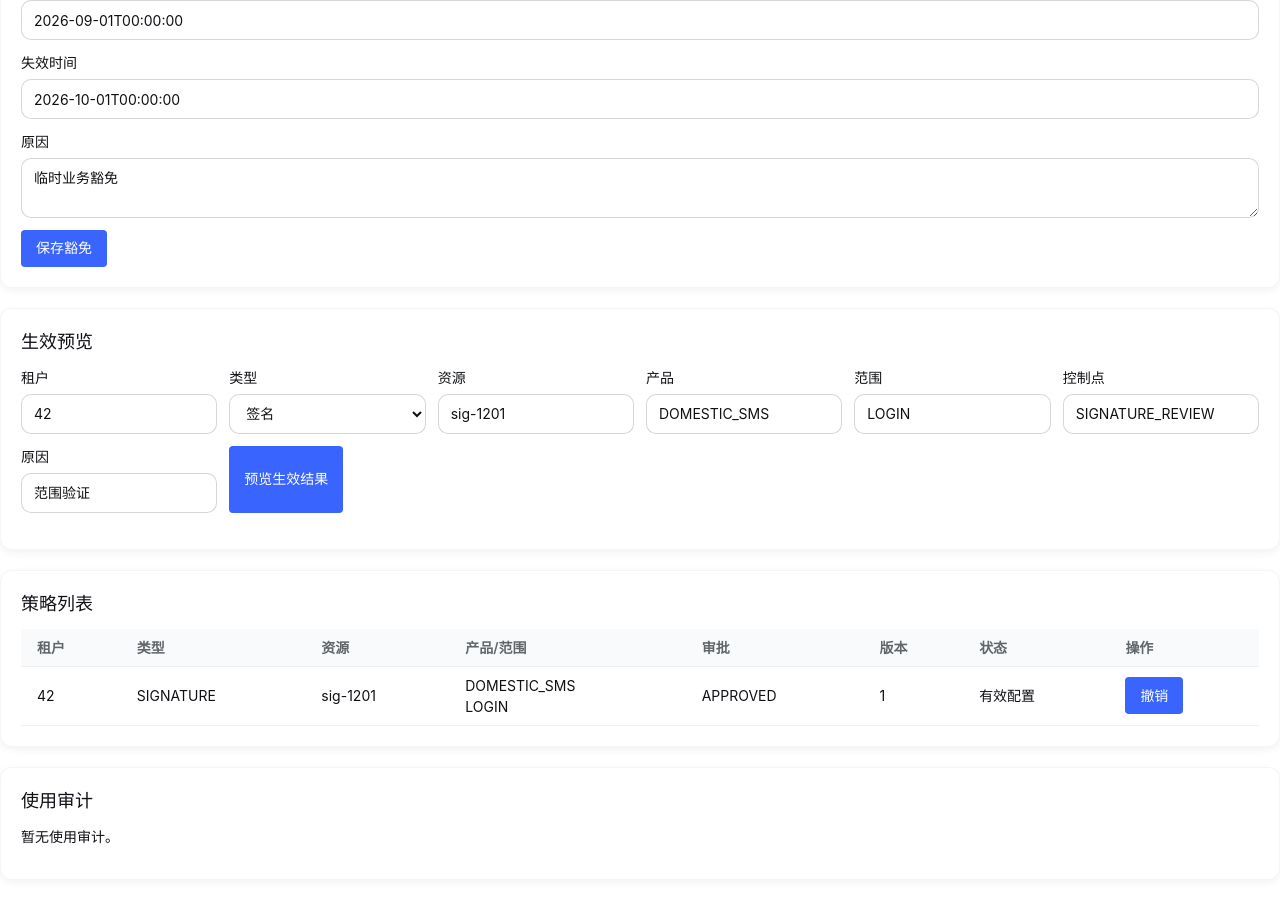
Test: Phase 14 auditable exemption policy UI › revokes policies and shows audited state
(page scrolled)
Check: the table with test id "admin-auditable-exemption-exemption-policy-table" is shown, box left=21, top=629, right=1259, bottom=726
Click the button with test id "admin-auditable-exemption-exemption-policy-revoke": {"x": 1154, "y": 696} left=1125, top=677, right=1183, bottom=714
(page scrolled)
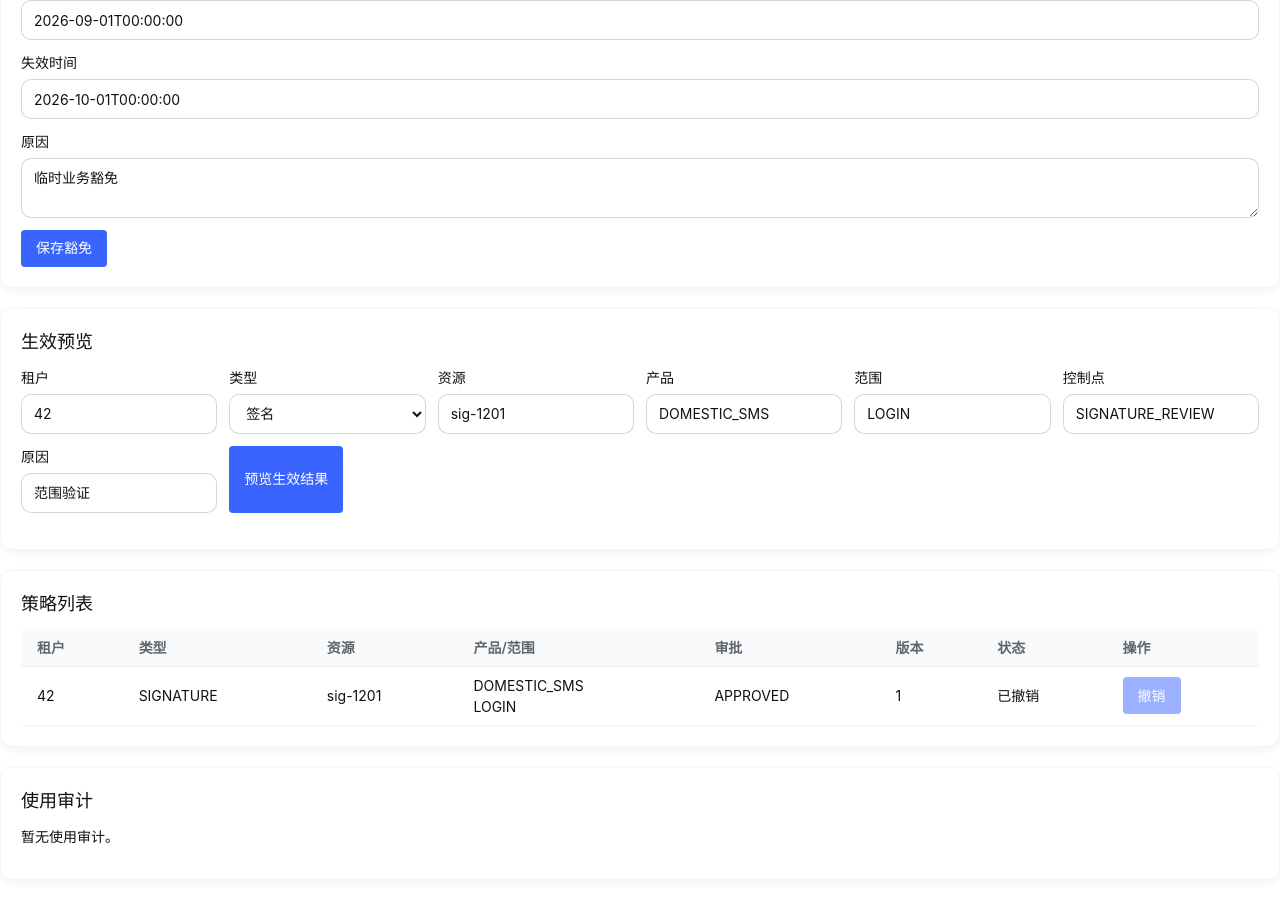
Check: the row with test id "admin-auditable-exemption-exemption-policy-row" shows "已撤销", box left=997, top=687, right=1039, bottom=704
